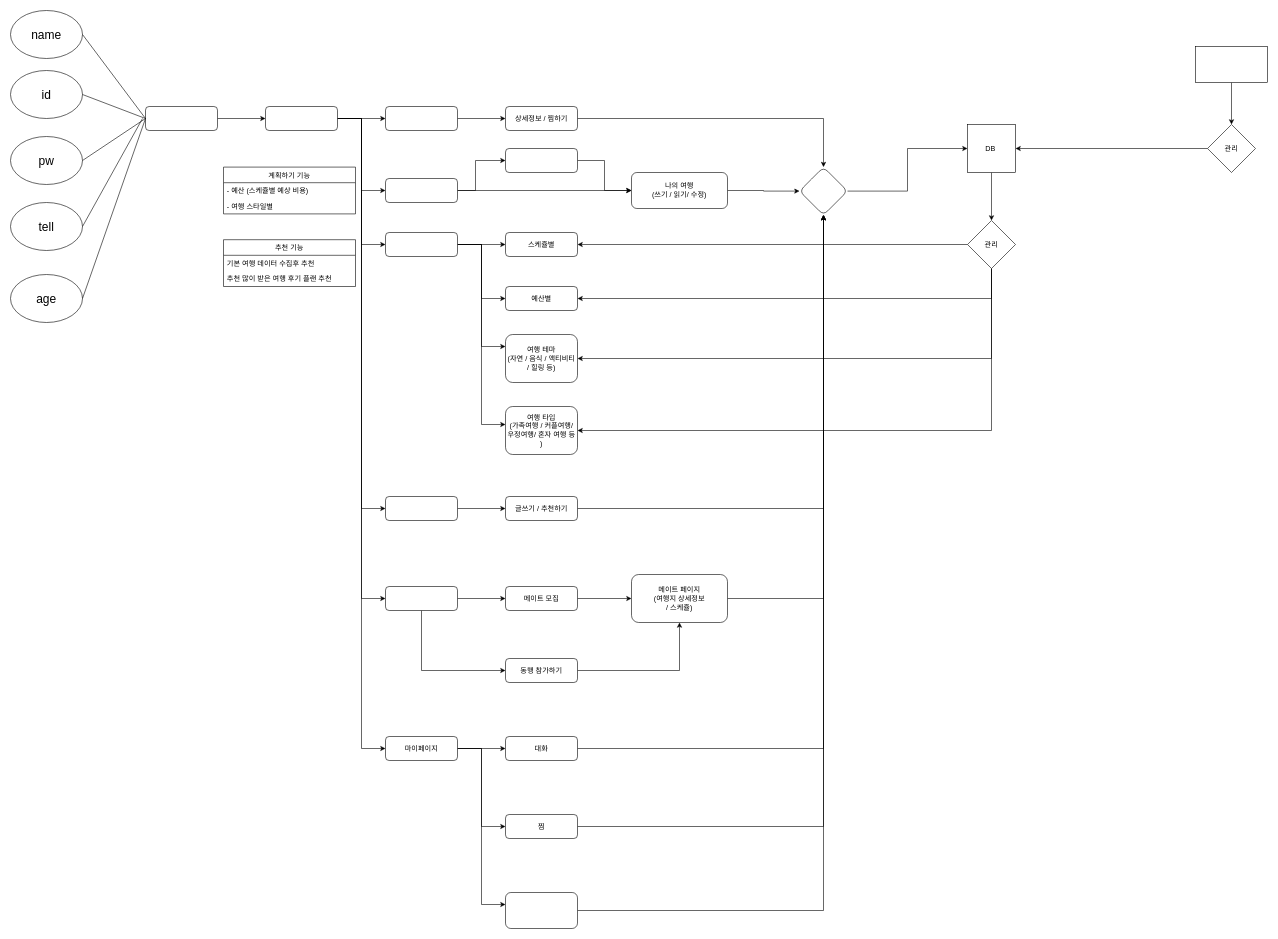
This 1278x939 diagram has some shape labels left out. Here are the shapes that lost their labels. From the top down, the centre of each, then its label:
At (x=1231, y=64): "여행 회사".
At (x=181, y=118): "로그인".
At (x=301, y=118): "메인페이지".
At (x=421, y=118): "여행지".
At (x=541, y=160): "새여행".
At (x=421, y=190): "계획하기".
At (x=823, y=190): "저장".
At (x=421, y=244): "추천".
At (x=421, y=508): "여행 후기".
At (x=421, y=598): "여행메이트 구하기".
At (x=541, y=910): "회원 정보 수정 / 탈퇴".
